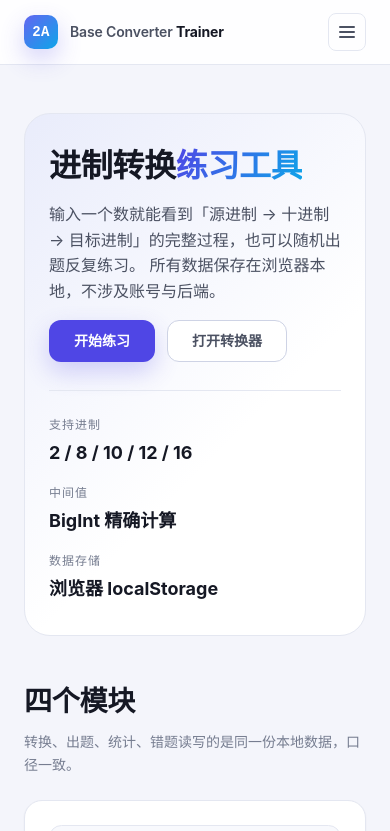
Test: 应用外壳 · 无障碍入口 › 移动端导航菜单可以展开与收起
Click the button named "展开导航菜单" at (347, 32), box x1=328 y1=13 x2=366 y2=51
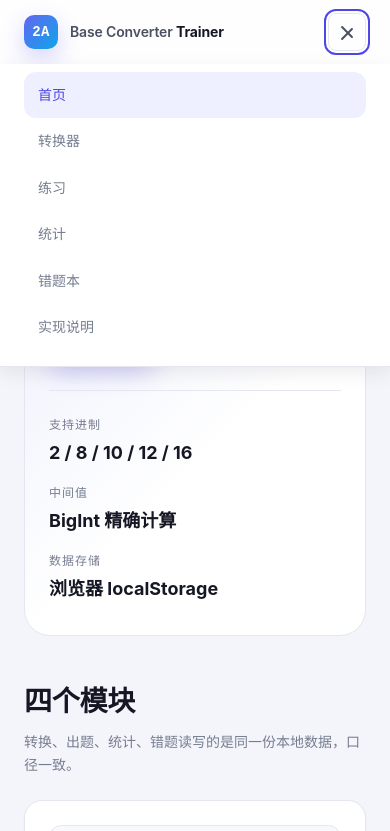
Expected: the button named "收起导航菜单" is expanded
Click the button named "收起导航菜单" at (347, 32), box x1=328 y1=13 x2=366 y2=51
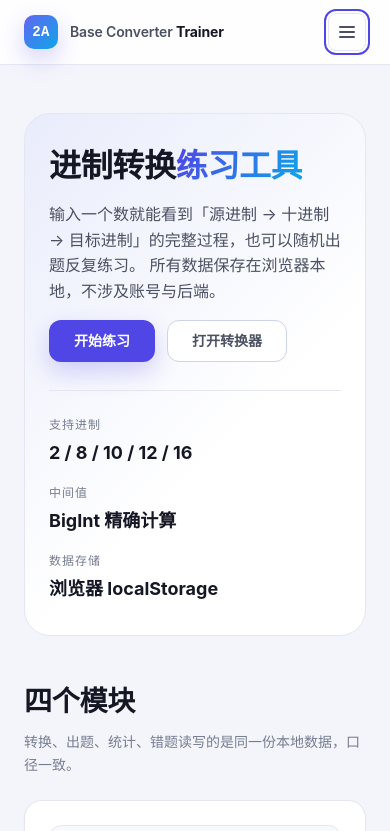
Expected: the button named "展开导航菜单" is collapsed, x1=328 y1=13 x2=366 y2=51
